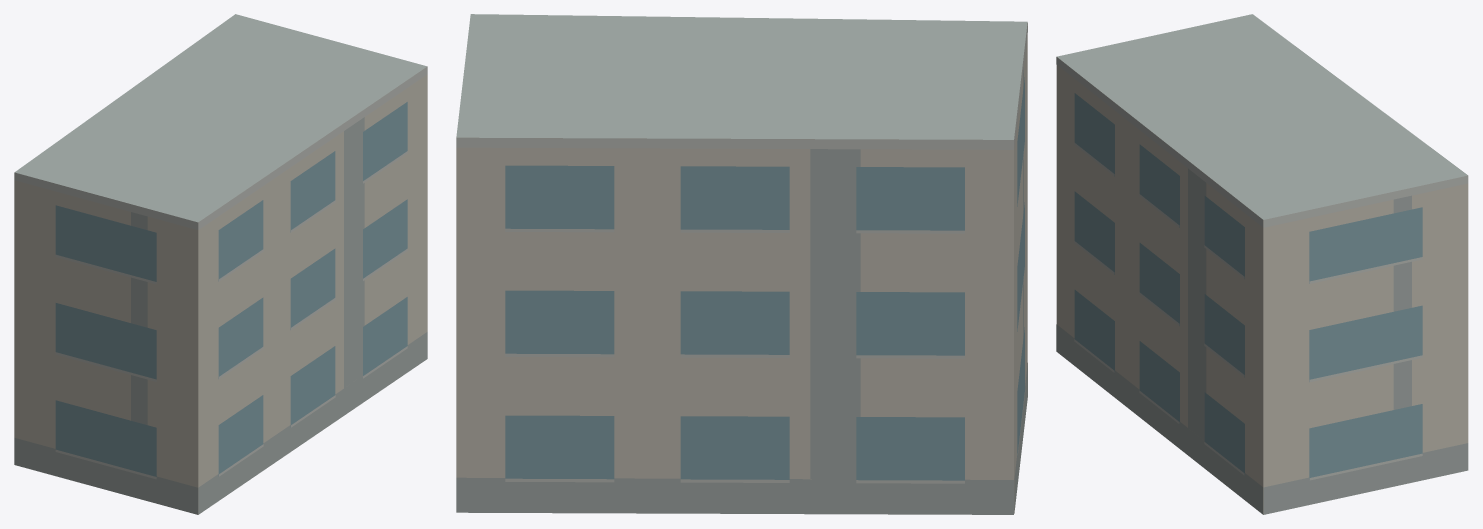
The model's file is survey-upis-33009971.glb.
3 renders of one model, left to right at view 1: azimuth 30°, elevation 25°; view 2: azimuth 150°, elevation 25°; view 3: azimuth 270°, elevation 25°, orthographic. The views are drawn at different scales.
Visible parts, largest first — view 1: survey-upis-33009971.tmp; view 2: survey-upis-33009971.tmp; view 3: survey-upis-33009971.tmp.
Boxes of the visible parts, left/top/right/bottom form: survey-upis-33009971.tmp: left=14, top=14, right=427, bottom=514; survey-upis-33009971.tmp: left=456, top=14, right=1027, bottom=514; survey-upis-33009971.tmp: left=1056, top=14, right=1468, bottom=514.
Size of the model in its own units: 13.71 by 9.15 by 11.59.
